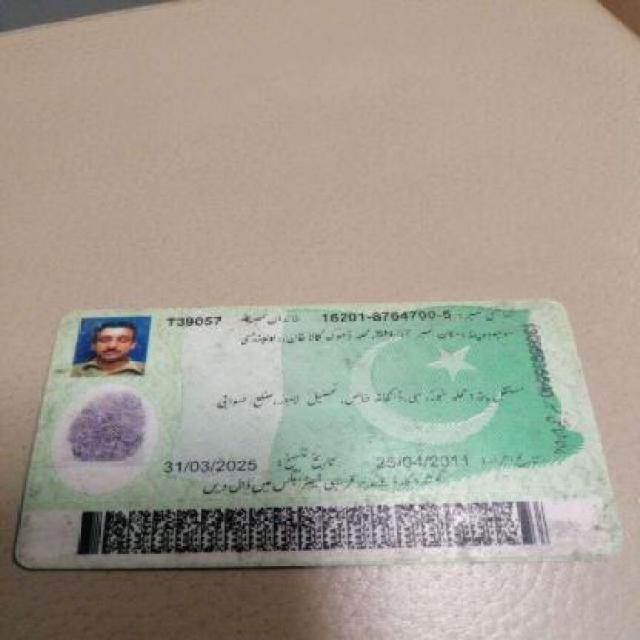Back: (26, 292, 611, 557)
